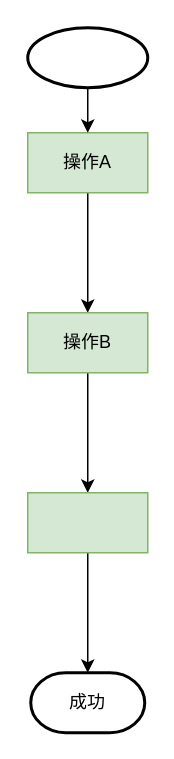
Some shapes in this 174 by 759 pixel diagram are drawn without their labels. Each missing label, with the centre of its shape:
"开始" goes at (87,57).
"操作C" goes at (87,522).
